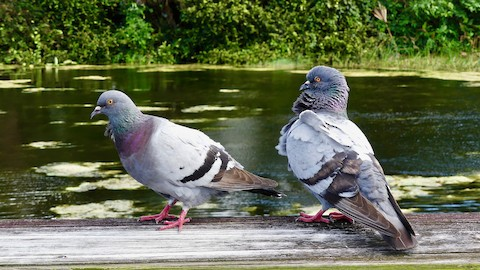pigeon: (84, 79, 281, 232), (270, 65, 429, 254)
